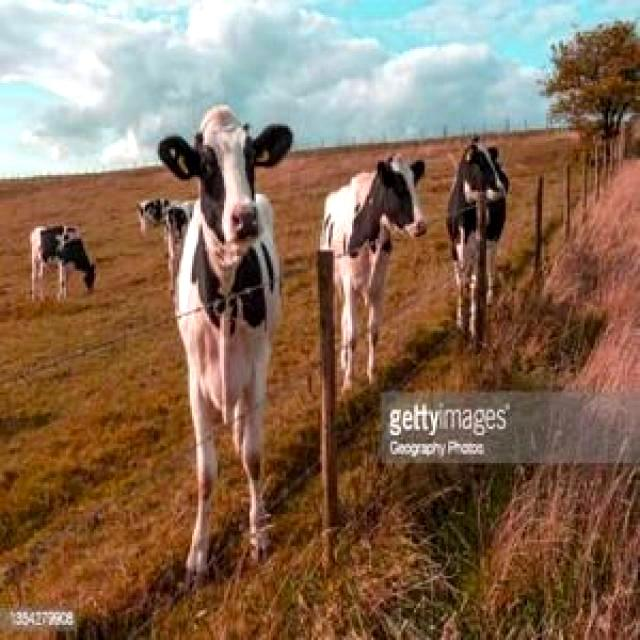COW: (159, 106, 292, 581), (320, 155, 426, 388), (448, 138, 509, 349)
